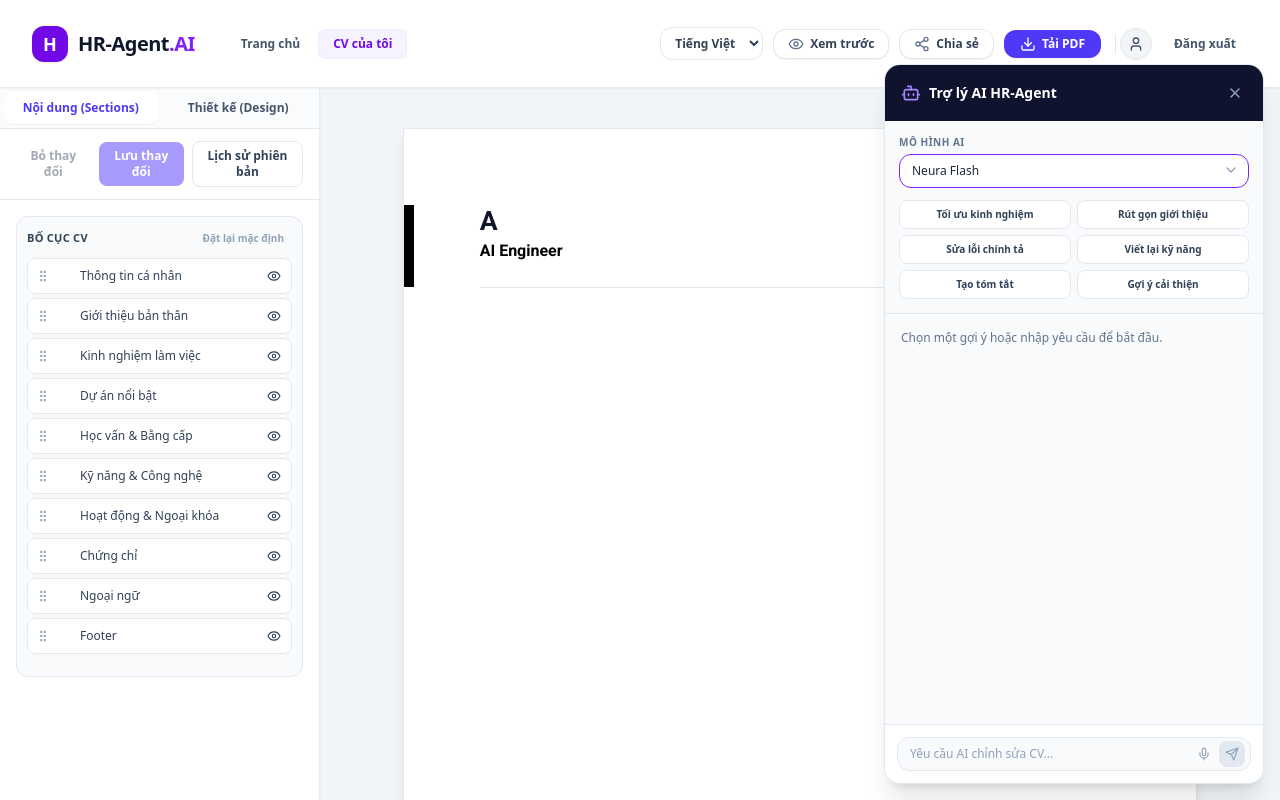
Test: CV editor explicit save workflow › keeps a newer manual edit when settlement resolves after that edit
Click the button "Tạo tóm tắt" at (985, 284), box [899,270,1071,299]
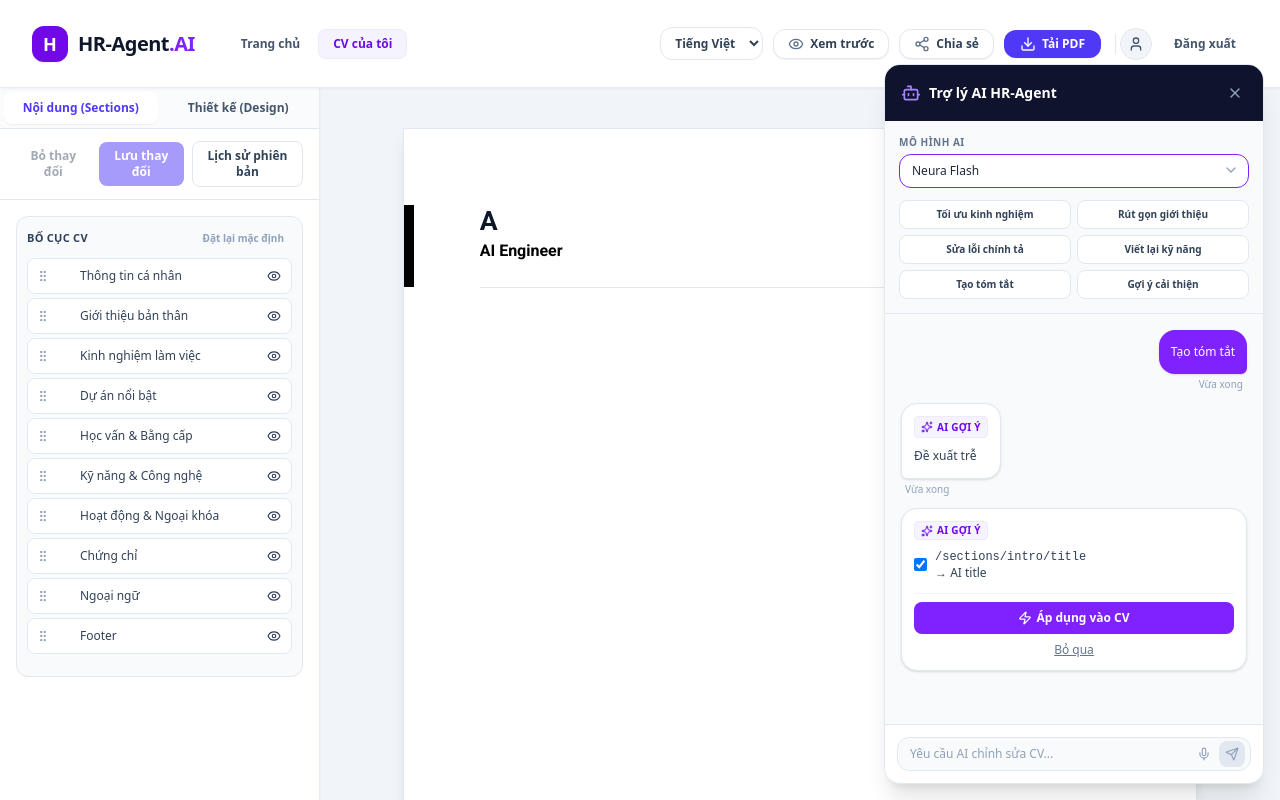
Click the button "Áp dụng vào CV" at (1074, 618), box [914,602,1234,634]
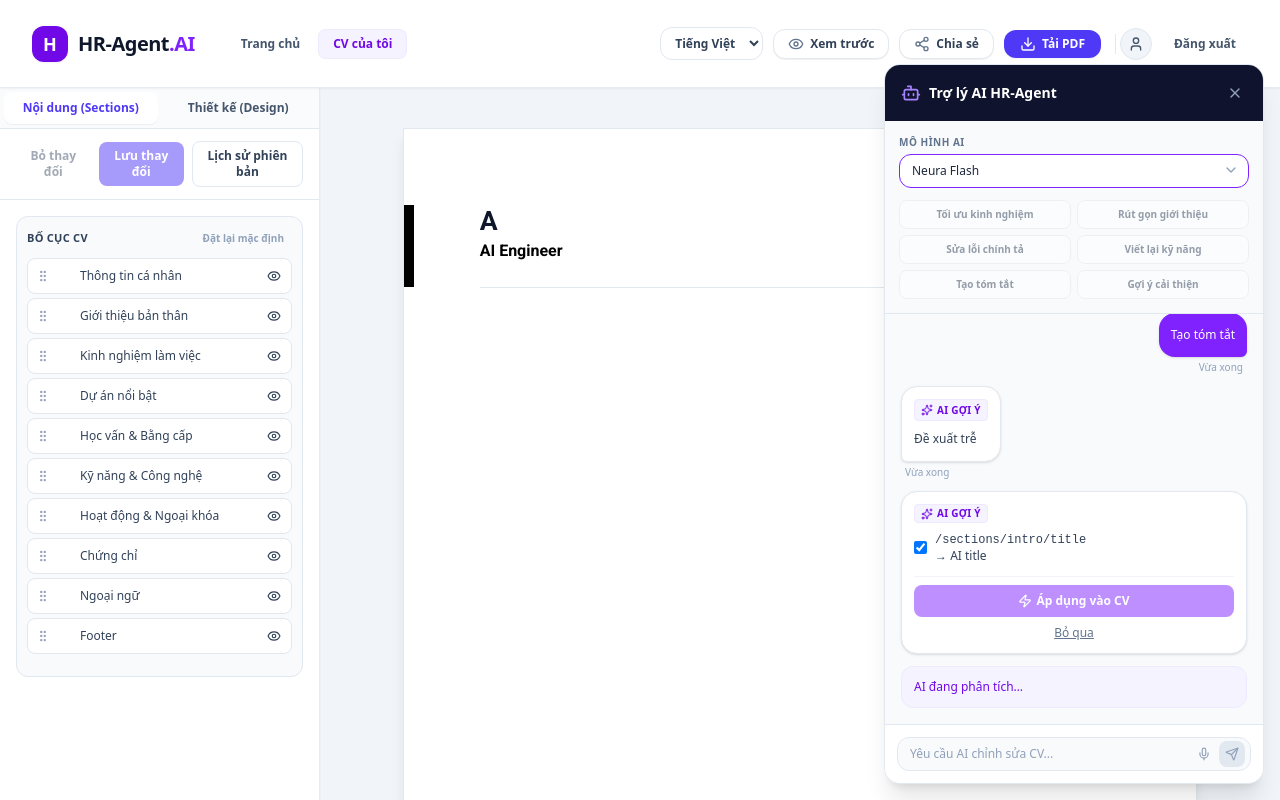
Double-click the button with test id "cv-block-header" at (521, 250), box [480,205,1120,288]
(page scrolled)
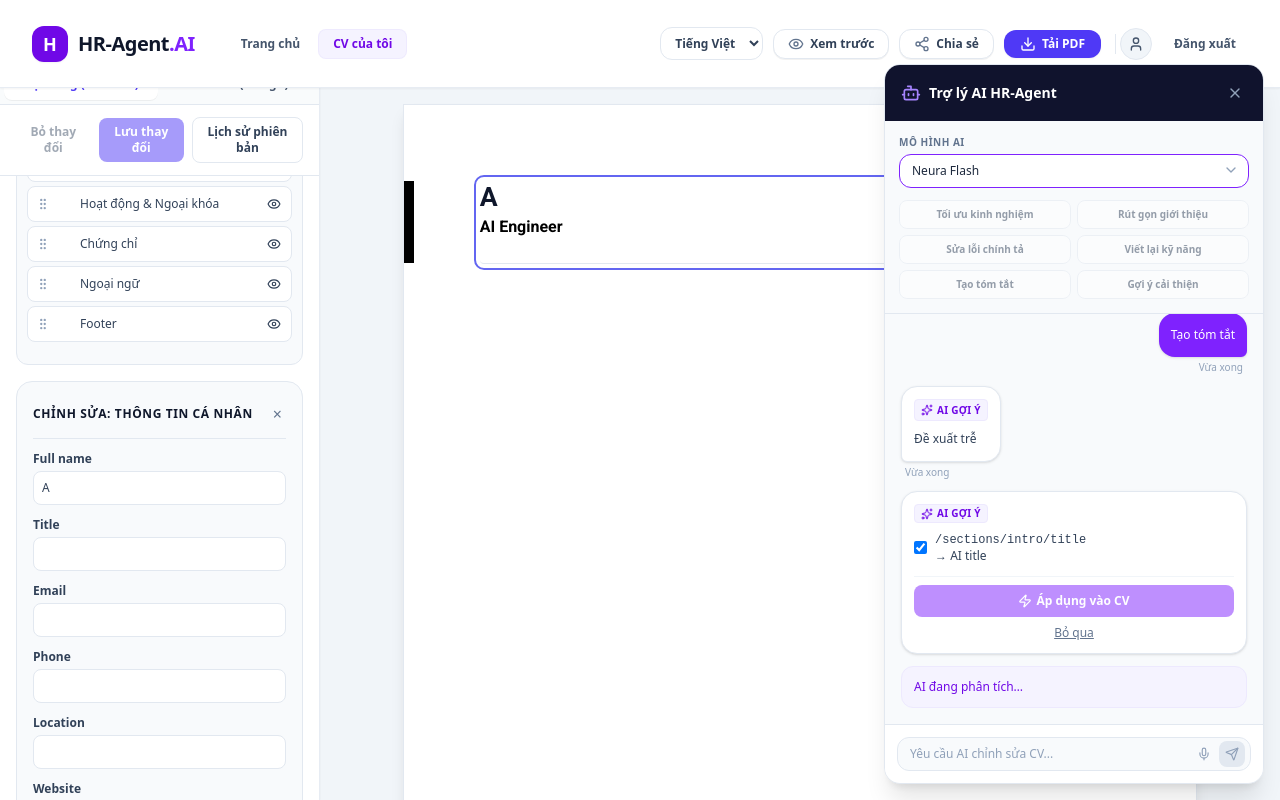
Replace the text in the field labelled "Full name" with "B" at (160, 488), box [33,471,286,505]
(page scrolled)
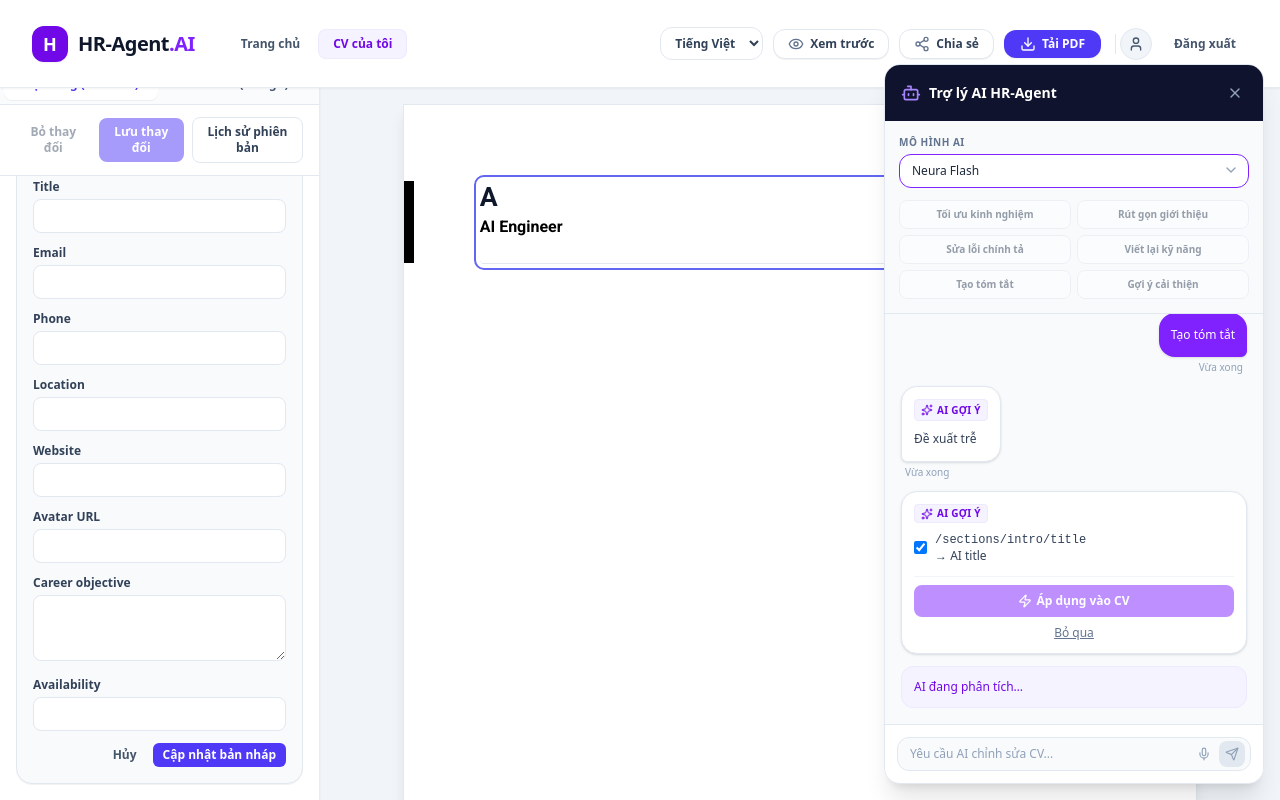
Click the button "Cập nhật bản nháp" at (219, 755), box [153,743,286,767]
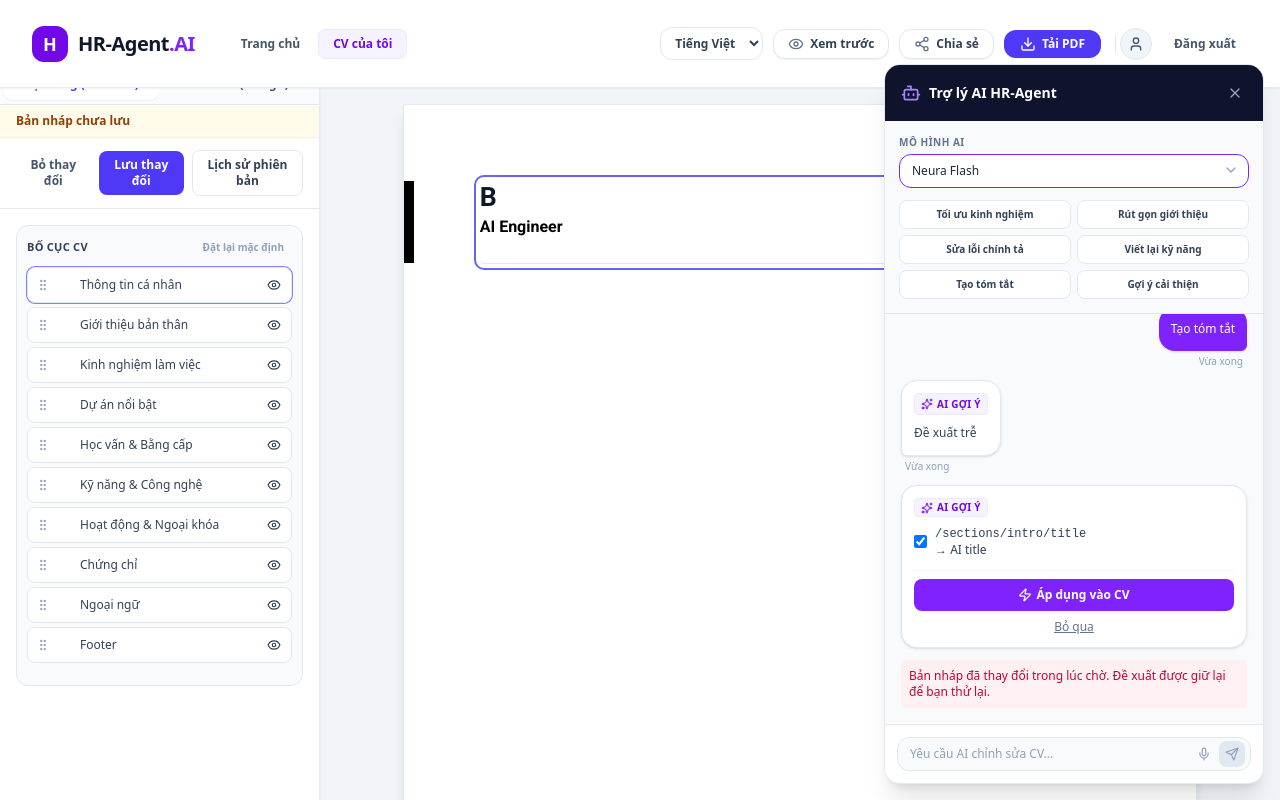
Expected: the heading "B" is shown, [480,181,496,213]
Expected: the button "Áp dụng vào CV" is shown, [914,579,1234,611]
Expected: the message "Bản nháp đã thay đổi trong lúc chờ. Đề xuất được giữ lại để bạn thử lại." is shown, [901,660,1247,708]
